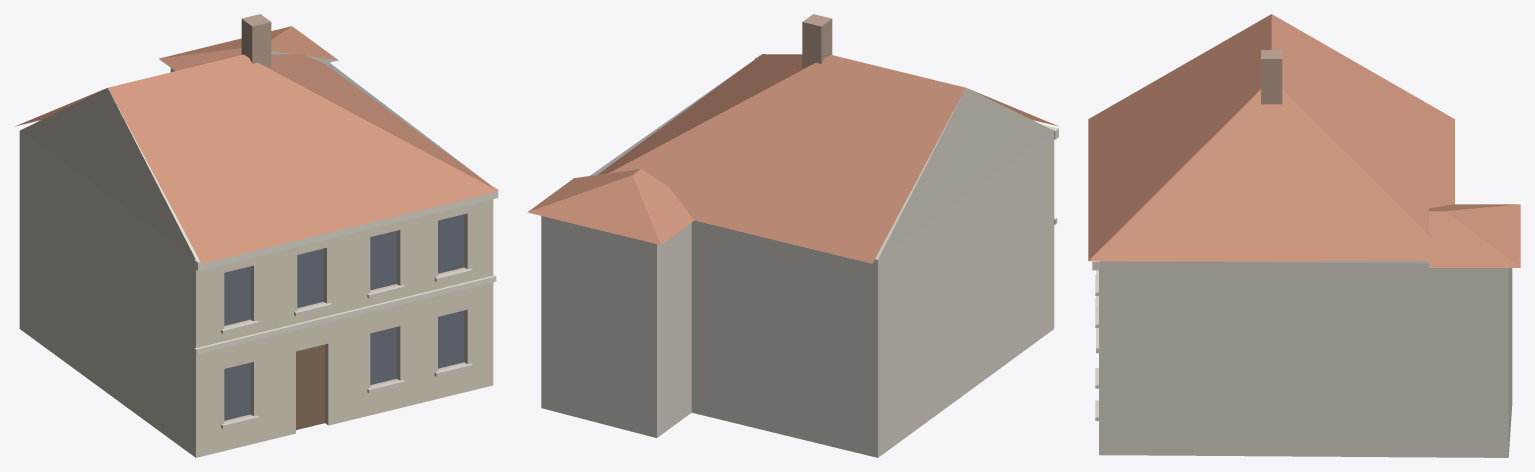
3 views of the same model, side by side, from view 1: azimuth 30°, elevation 25°; view 2: azimuth 150°, elevation 25°; view 3: azimuth 270°, elevation 25° (orthographic). The views are drawn at different scales.
Visible parts, largest first — view 1: CP_1712_Masonry, CP_1712_Roof, CP_1712_Gable_L_gable, CP_1712_WingRoof_Rear_Projection, CP_1712_Cornice_eave_0, CP_1712_Cornice_string_0, CP_1712_Chimney_0; view 2: CP_1712_Masonry, CP_1712_Roof, CP_1712_Gable_L_gable, CP_1712_WingRoof_Rear_Projection, CP_1712_Chimney_0; view 3: CP_1712_Masonry, CP_1712_Roof, CP_1712_WingRoof_Rear_Projection, CP_1712_Chimney_0.
Boxes of the visible parts, box(x1,y1,x2,y2) form: CP_1712_Masonry: box(19, 62, 493, 457); CP_1712_Roof: box(15, 54, 498, 263); CP_1712_Gable_L_gable: box(20, 88, 198, 259); CP_1712_WingRoof_Rear_Projection: box(159, 26, 338, 70); CP_1712_Cornice_eave_0: box(194, 186, 498, 270); CP_1712_Cornice_string_0: box(194, 275, 496, 354); CP_1712_Chimney_0: box(241, 14, 271, 67); CP_1712_Masonry: box(541, 61, 1054, 457); CP_1712_Roof: box(597, 54, 1058, 263); CP_1712_Gable_L_gable: box(875, 88, 1053, 259); CP_1712_WingRoof_Rear_Projection: box(527, 169, 693, 244); CP_1712_Chimney_0: box(802, 14, 832, 68); CP_1712_Masonry: box(1099, 261, 1512, 457); CP_1712_Roof: box(1088, 14, 1454, 261); CP_1712_WingRoof_Rear_Projection: box(1429, 204, 1520, 267); CP_1712_Chimney_0: box(1261, 50, 1282, 104).
Size of the model in its own units: 11.57 by 11.9 by 14.15.
